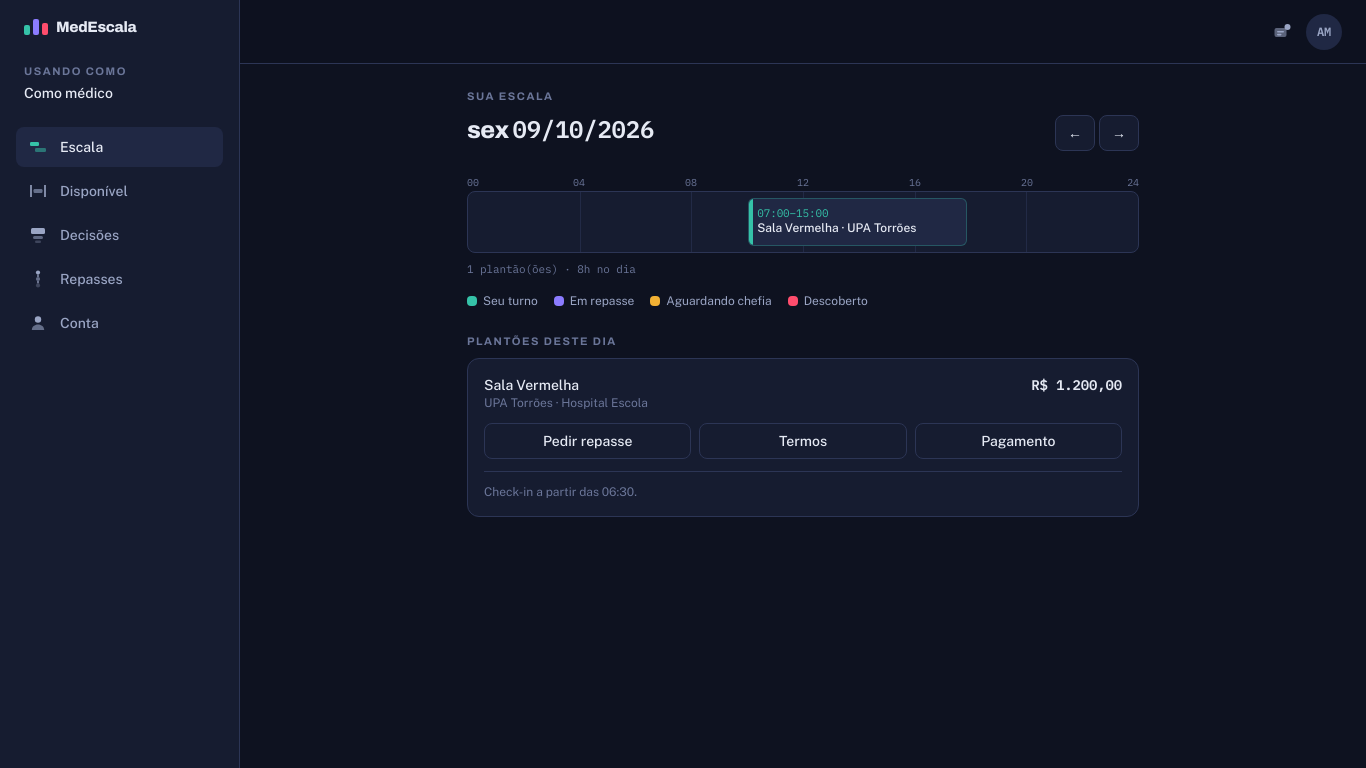
Test: pagamento e nota (F14, F15, F17) › o modelo B só aparece onde a instituição habilitou, e vem com o alerta (DEC-203, DEC-207)
The image size is (1366, 768).
Click the button "Pedir repasse" at (588, 440), box [484,422,691,458]
(page scrolled)
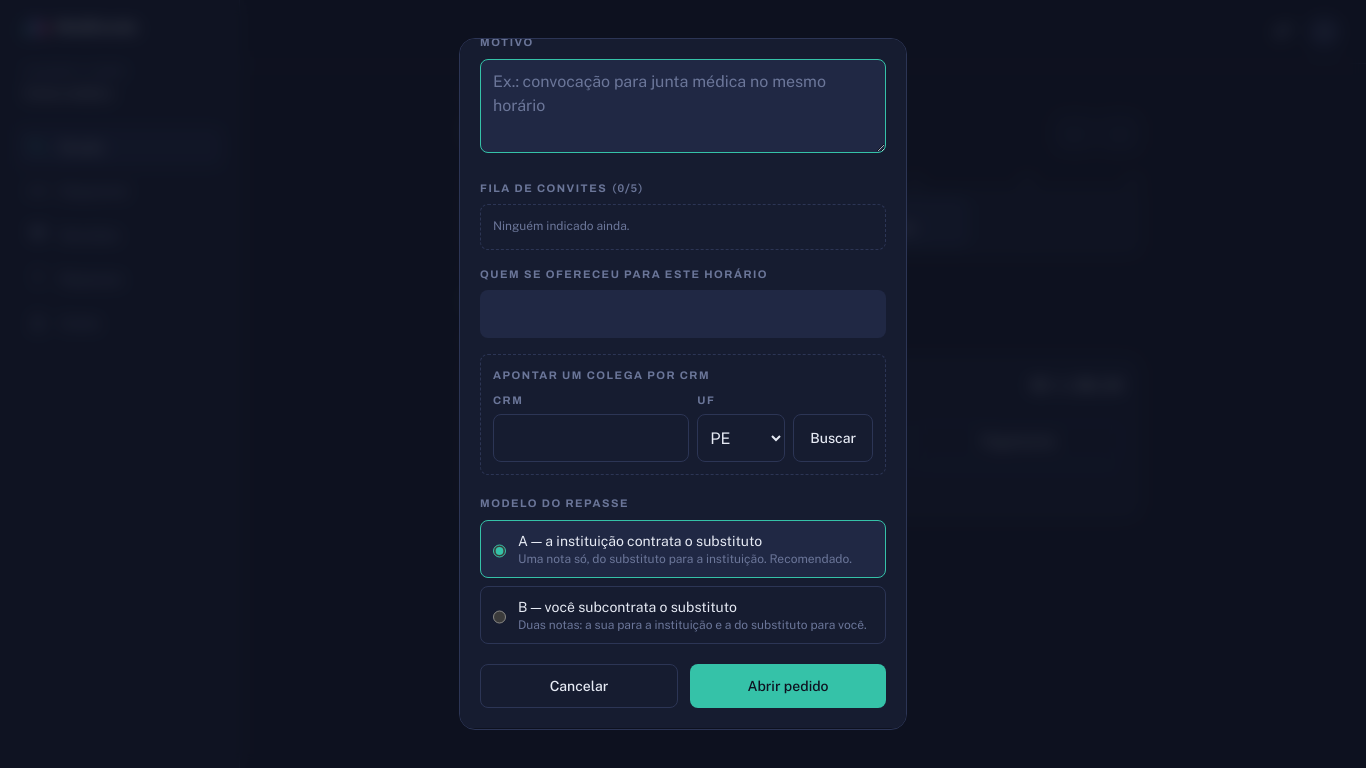
Click the radio button labelled "B — você subcontrata" at (500, 617), box [493,601,506,633]
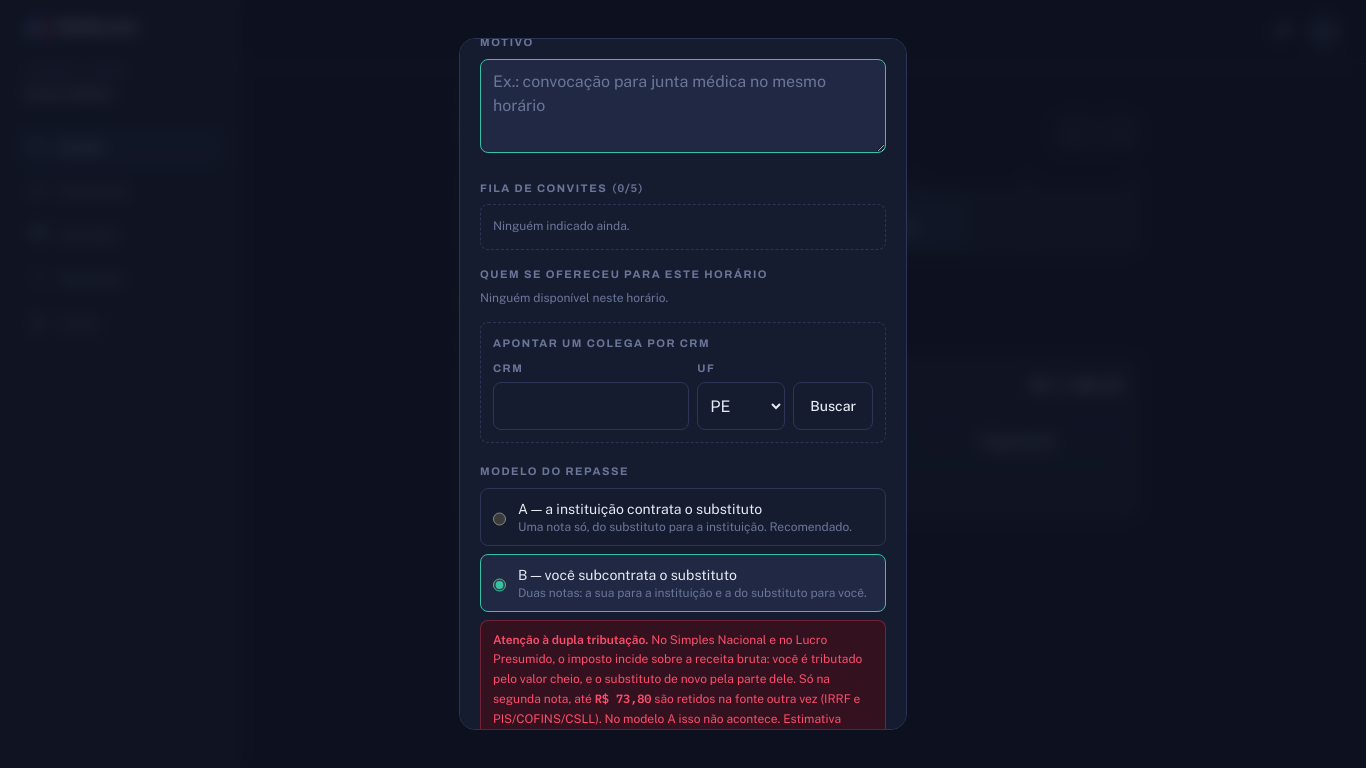
Check: the text "Atenção à dupla tributação." is shown, box [493,633,648,647]
